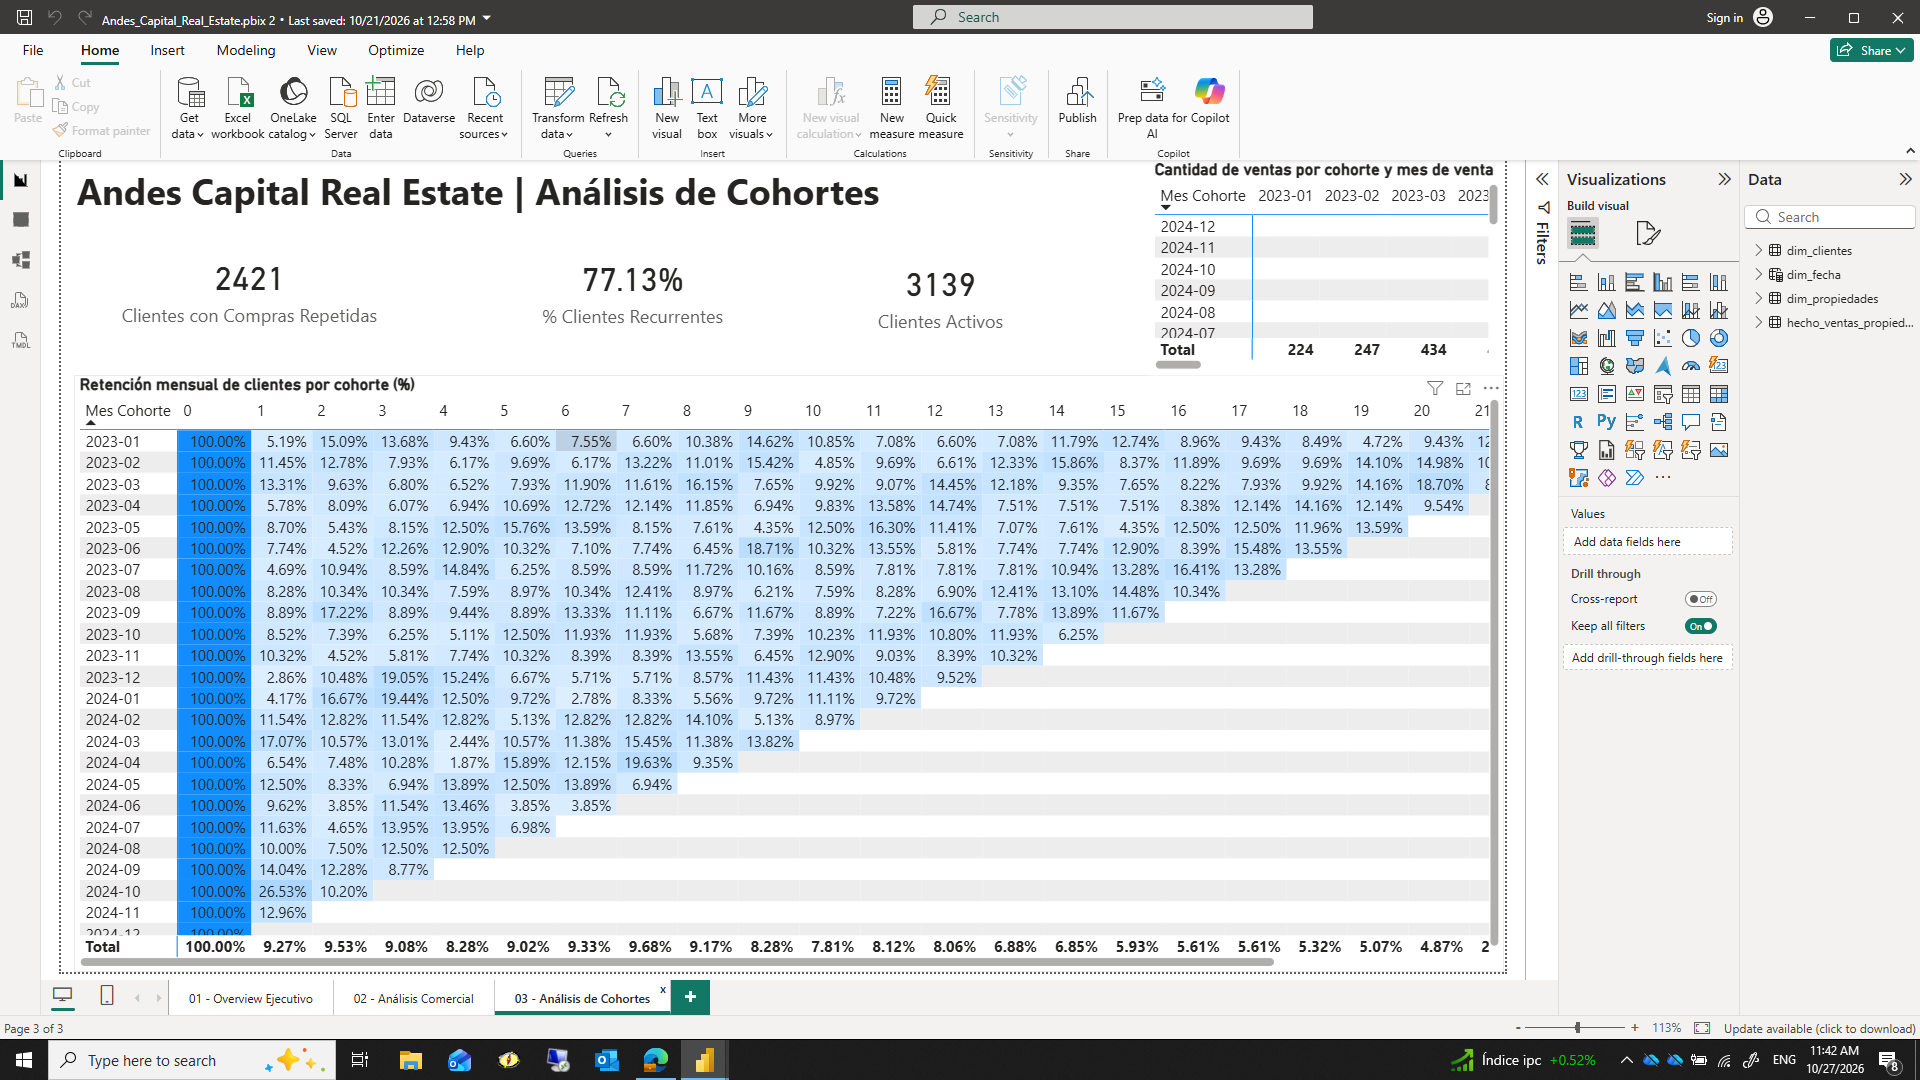

Layout of this report page (visuals, bound fields, positions):
{"tool":"powerbi","page":{"name":"03 - Análisis de Cohortes","canvas":[1280,720],"ordinal":2},"visuals":[{"type":"card","fields":{"Values":["hecho_ventas_propiedades.Clientes con Compras Repetidas"]},"box":[33.3,50,266.7,127.8],"z":0},{"type":"card","fields":{"Values":["hecho_ventas_propiedades.% Clientes Recurrentes"]},"box":[366.7,51.9,279.6,125.9],"z":1000},{"type":"card","fields":{"Values":["hecho_ventas_propiedades.Clientes Activos"]},"box":[640.7,59.3,277.8,118.5],"z":2000},{"type":"textbox","box":[9.1,0,854.5,66.7],"z":3000},{"type":"pivotTable","title":"Retención mensual de clientes por cohorte (%)","fields":{"Columns":["hecho_ventas_propiedades.Meses desde primera compra"],"Rows":["hecho_ventas_propiedades.Mes Cohorte"],"Values":["hecho_ventas_propiedades.Retención Cohorte (%)"]},"box":[11.1,190.7,1268.5,529.6],"z":4000},{"type":"pivotTable","title":"Cantidad de ventas por cohorte y mes de venta","fields":{"Rows":["hecho_ventas_propiedades.Mes Cohorte"],"Values":["hecho_ventas_propiedades.Cantidad de Ventas"],"Columns":["hecho_ventas_propiedades.Mes Venta"]},"box":[964.8,0,314.8,190.7],"z":5000}]}

Visuals, with their boxes on the page's 1280x720 design canvas (x1, y1, x2, y2). These are canvas units, not pixel positions in the 1920x1080 screenshot, which may show the page scaled, cropped or inside an application window:
card - hecho_ventas_propiedades.Clientes con Compras Repetidas: bbox=(33, 50, 300, 178)
card - hecho_ventas_propiedades.% Clientes Recurrentes: bbox=(367, 52, 646, 178)
card - hecho_ventas_propiedades.Clientes Activos: bbox=(641, 59, 918, 178)
textbox: bbox=(9, 0, 864, 67)
"Retención mensual de clientes por cohorte (%)" pivotTable: bbox=(11, 191, 1280, 720)
"Cantidad de ventas por cohorte y mes de venta" pivotTable: bbox=(965, 0, 1280, 191)
